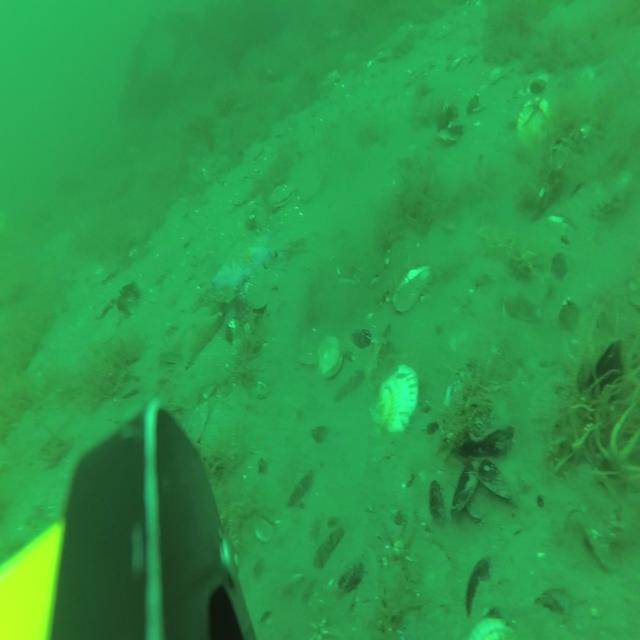scallop: (371, 363, 419, 432), (394, 264, 431, 313), (520, 96, 548, 143), (463, 619, 512, 640), (319, 337, 343, 379), (299, 167, 324, 201), (270, 183, 292, 207)
starfish: (210, 229, 276, 290), (160, 310, 222, 366)
